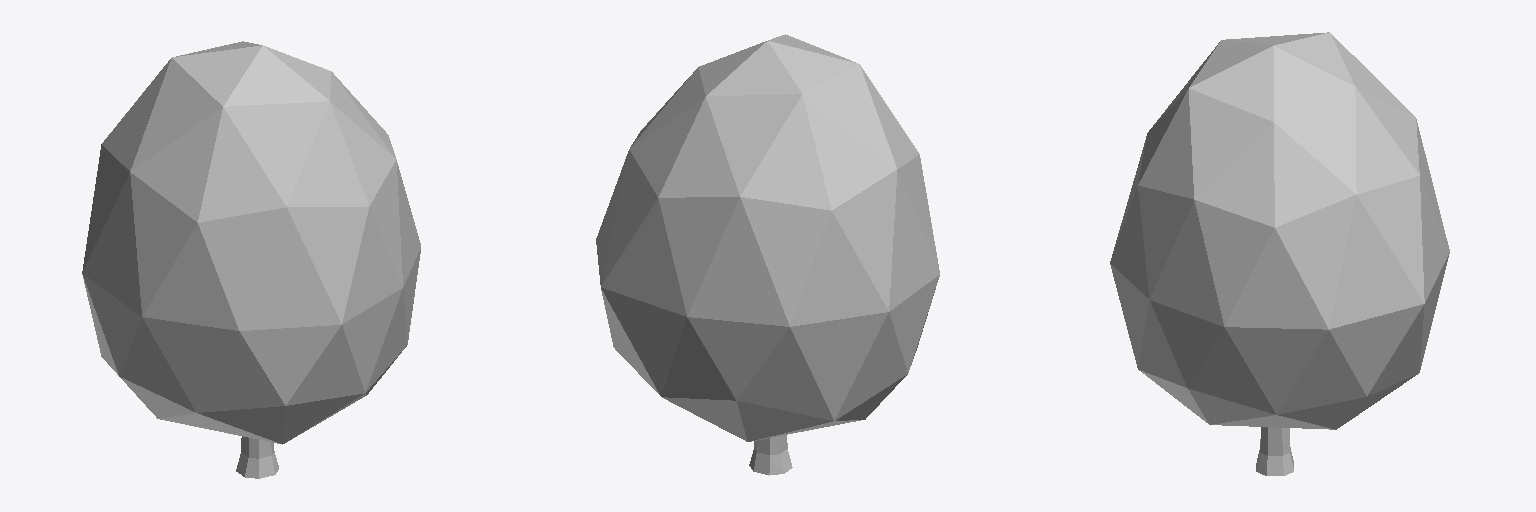
The model's file is Tree_Oak_1.obj.
3 views of the same model, side by side, from view 1: azimuth 30°, elevation 25°; view 2: azimuth 150°, elevation 25°; view 3: azimuth 270°, elevation 25° (orthographic).
Parts seen in each view (by area): view 1: Icosphere.082_Icosphere.104, Cube.079_Cube.210; view 2: Icosphere.082_Icosphere.104, Cube.079_Cube.210; view 3: Icosphere.082_Icosphere.104, Cube.079_Cube.210.
Boxes of the visible parts, x1,y1,x2,y2 form: Icosphere.082_Icosphere.104: [82, 41, 420, 444]; Cube.079_Cube.210: [236, 436, 278, 478]; Icosphere.082_Icosphere.104: [596, 34, 939, 441]; Cube.079_Cube.210: [749, 435, 792, 475]; Icosphere.082_Icosphere.104: [1110, 32, 1449, 429]; Cube.079_Cube.210: [1256, 427, 1293, 475].
Bounding box in the file's own units: 3.37 × 4.63 × 3.36.